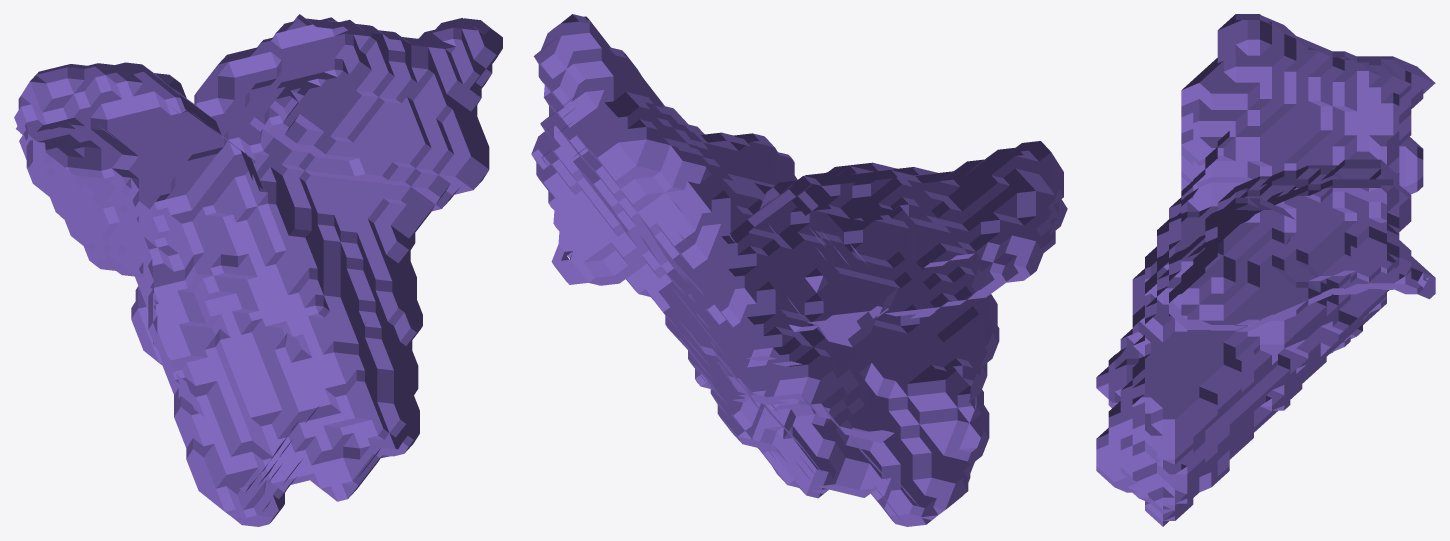
File: region_0170_VM__ventromedial_thalamic_nucleus_.glb
3 renders of one model, left to right at view 1: azimuth 30°, elevation 25°; view 2: azimuth 150°, elevation 25°; view 3: azimuth 270°, elevation 25°, orthographic. The views are drawn at different scales.
Visible parts, largest first — view 1: world; view 2: world; view 3: world.
Boxes of the visible parts, x1,y1,x2,y2 form: world: (14, 14, 502, 526); world: (531, 14, 1067, 526); world: (1096, 14, 1435, 526).
Bounding box in the file's own units: 0.344 × 0.296 × 0.224.
